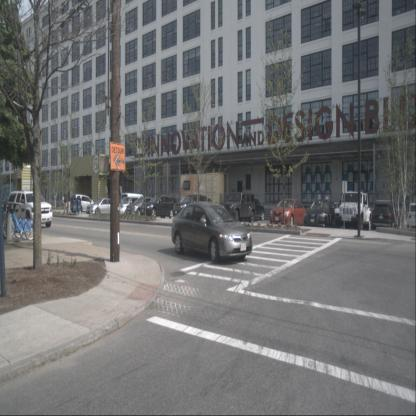human-pedestrian-adult: (62, 192, 69, 215)
vehicle-car: (171, 200, 252, 264), (7, 191, 53, 228), (334, 191, 372, 229), (222, 193, 255, 224), (270, 200, 306, 227), (304, 200, 336, 228), (173, 194, 208, 218), (140, 194, 174, 218), (127, 197, 155, 221), (372, 201, 394, 228), (116, 196, 145, 216), (86, 199, 116, 218), (241, 198, 264, 221), (73, 193, 94, 215), (121, 193, 143, 212), (406, 203, 416, 230)
